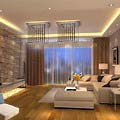copymove: (26, 20, 47, 44)
spliced: (1, 89, 20, 120)
